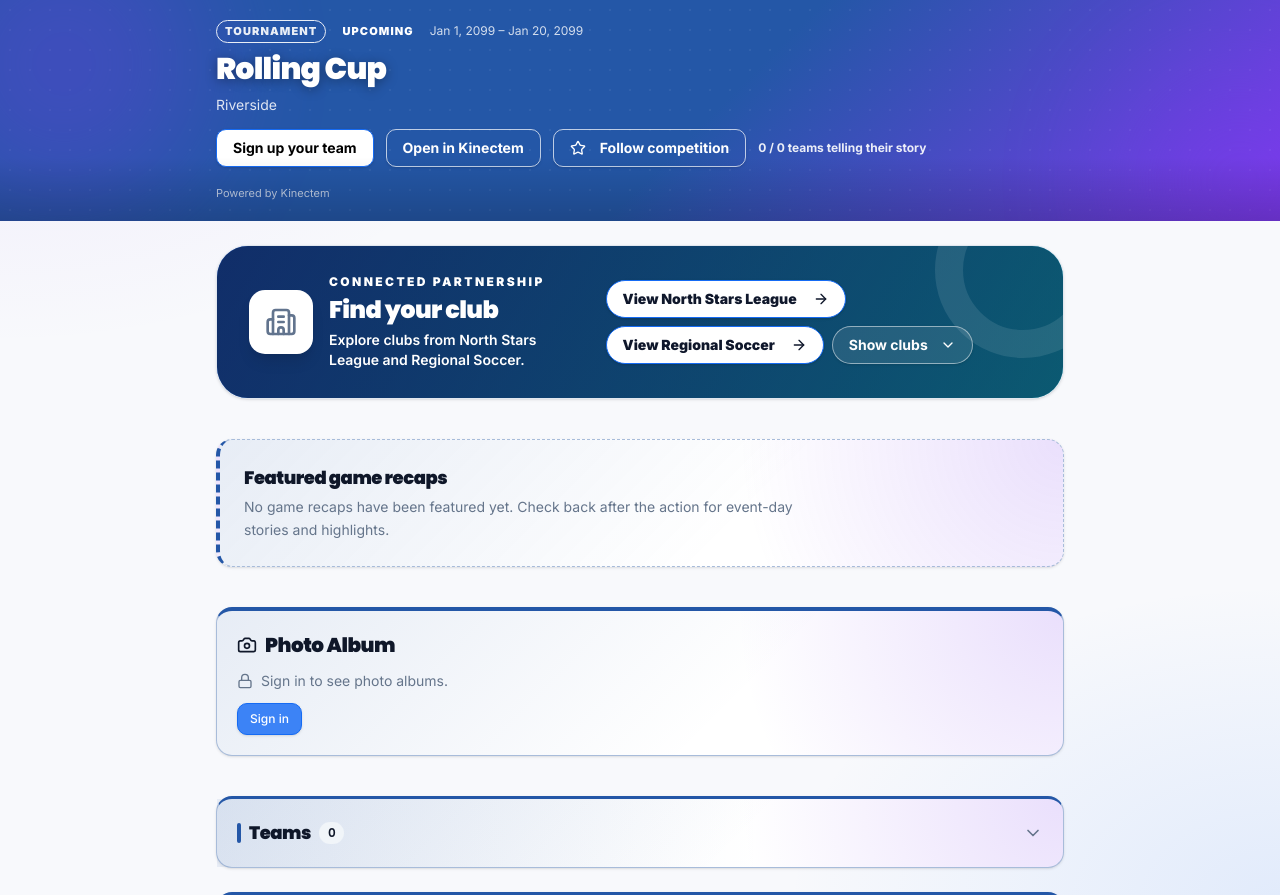
competition partnership directory › shows linked partnership branding and a searchable, deduplicated club list
Later steps or results of the test are not shown.
Expected: the element with test id "competition-partner-directory" shows "Find your club", [329,293,498,326]
Click the button "Show clubs" at (902, 345), box [832,326,973,364]
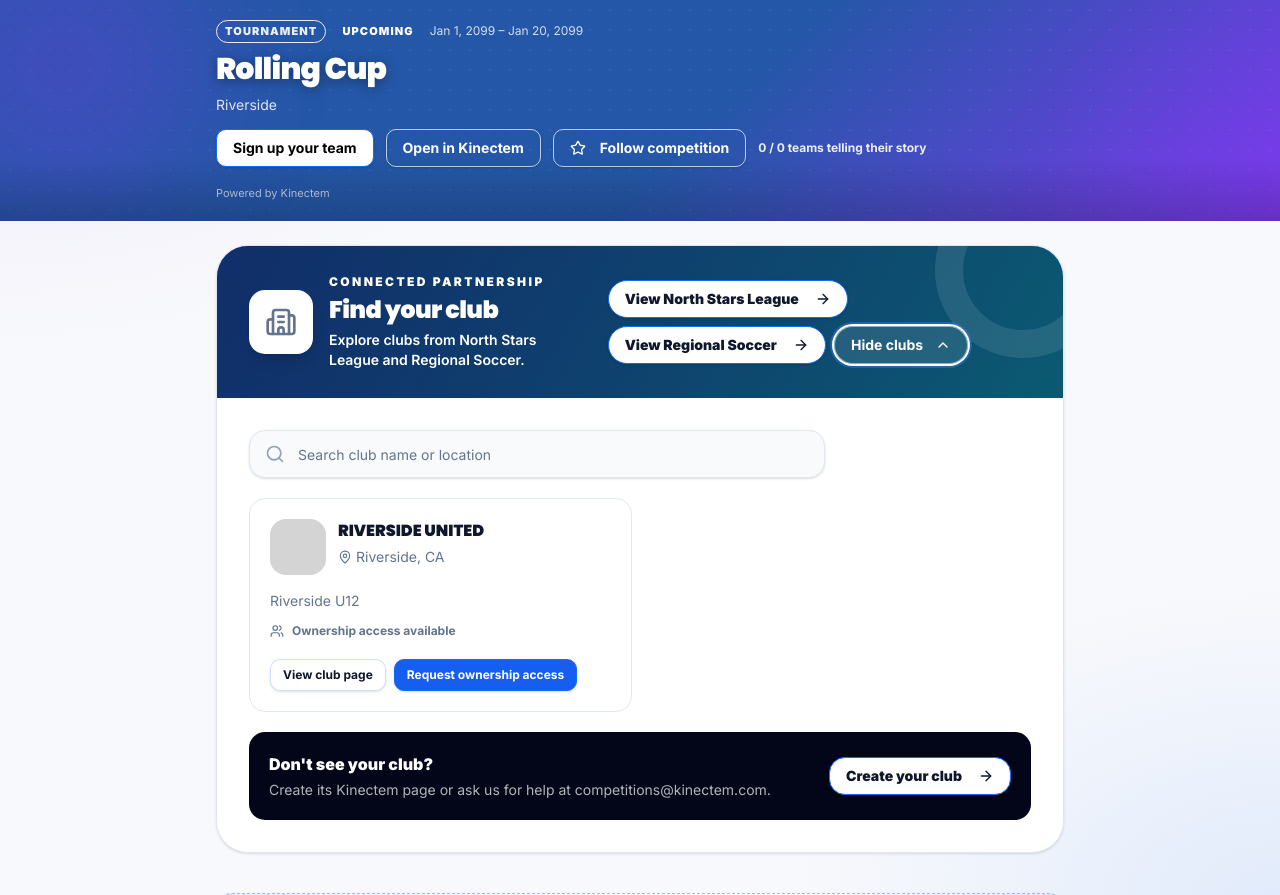
Expected: the button "Hide clubs" is expanded, [834,326,968,364]
Expected: the number of elements with test id "competition-partner-club-org-1" is 1, [249,498,632,712]
Expected: the text "Ownership access available" is shown, [270,623,456,638]
Type "Elsewhere" into the field named "Search partnership clubs" at (537, 454), box [249,430,825,478]
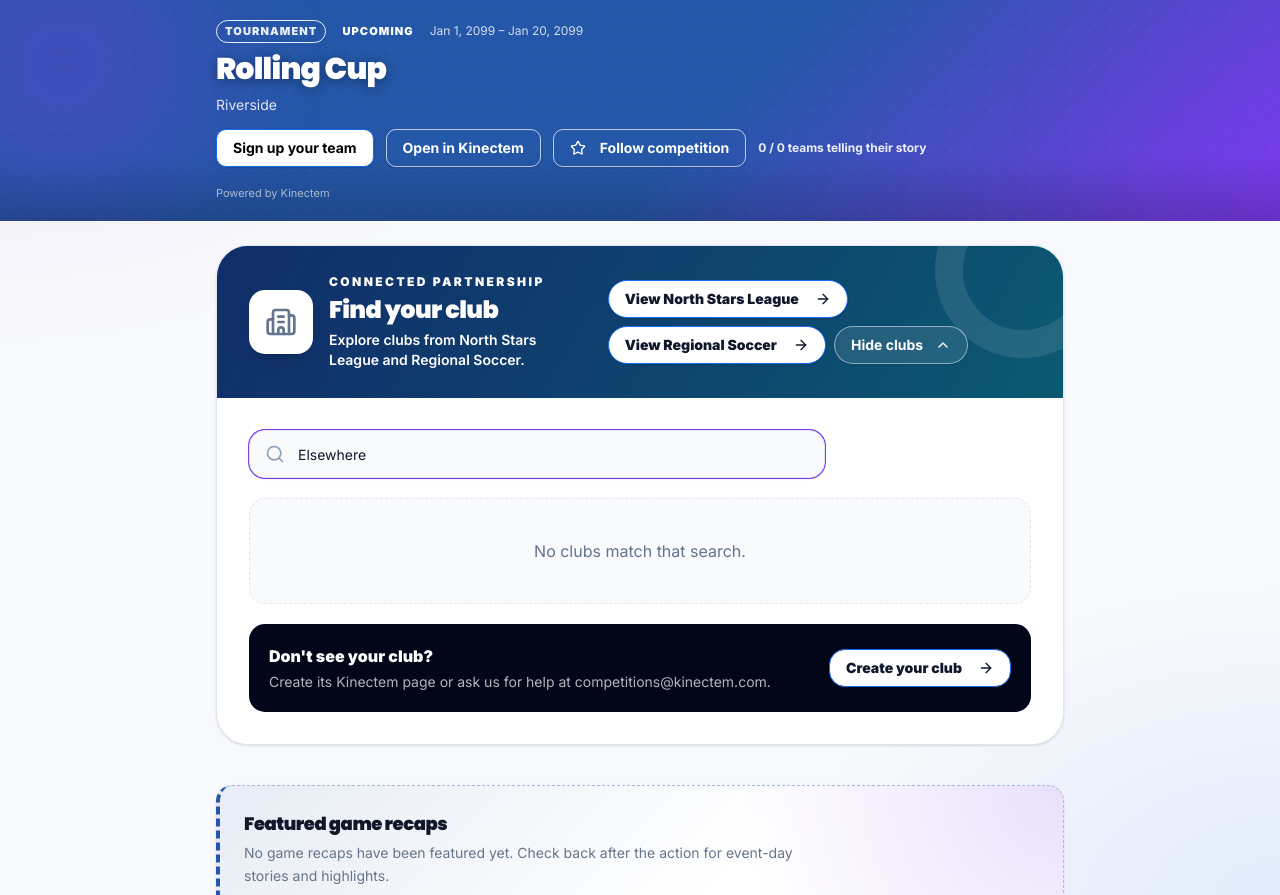
Expected: the text "No clubs match that search." is shown, [249,498,1031,604]
